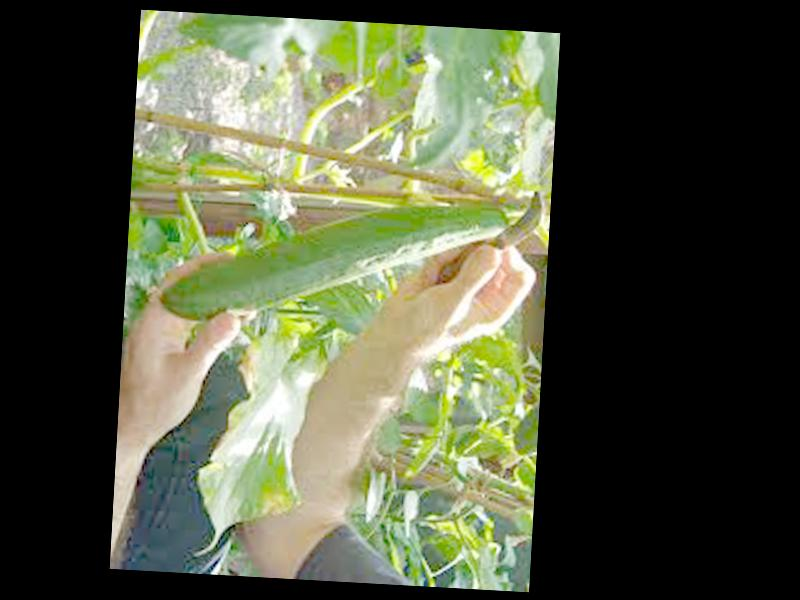Cucumber: (160, 186, 506, 336)
